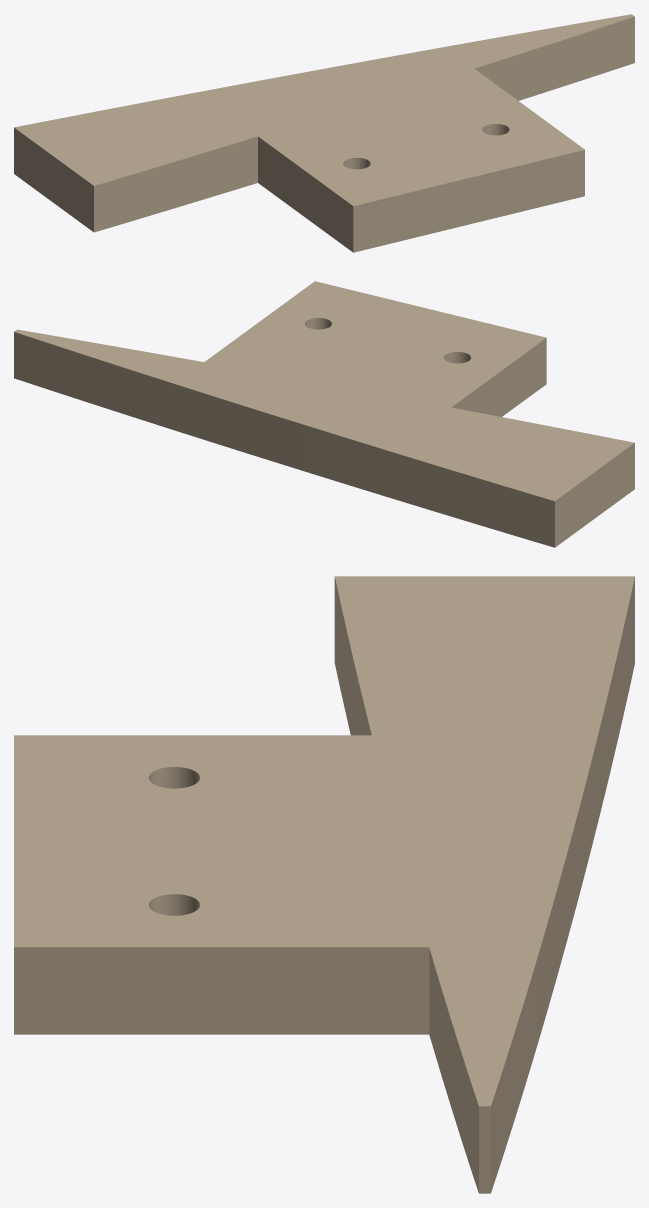
Rendered from T-HW-RUD.glb.
The picture shows the model from 3 angles, top to bottom: view 1: azimuth 30°, elevation 25°; view 2: azimuth 150°, elevation 25°; view 3: azimuth 270°, elevation 25°; orthographic projection. The views are drawn at different scales.
Parts seen in each view (by area): view 1: geometry_0; view 2: geometry_0; view 3: geometry_0.
Part boxes in pixels (x1=…): geometry_0: x1=14, y1=14, x2=634, y2=252; geometry_0: x1=14, y1=281, x2=634, y2=547; geometry_0: x1=14, y1=576, x2=634, y2=1193.
Bounding box in the file's own units: 156 × 12 × 77.43.
